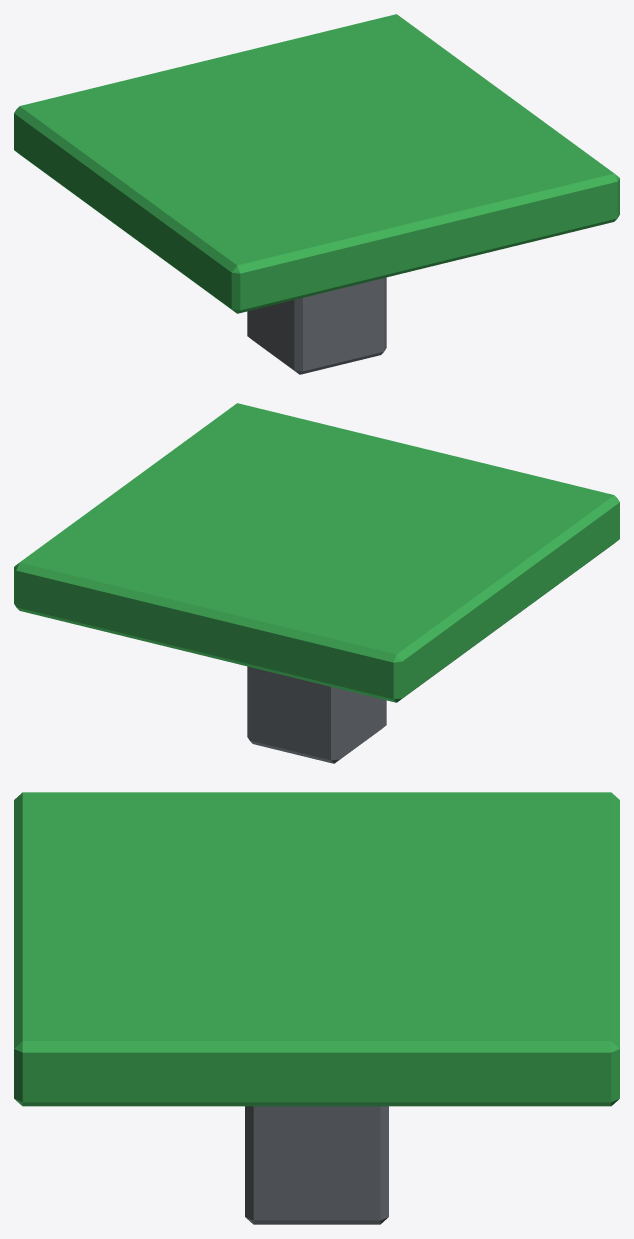
The model's file is lift_platform.glb.
3 views of the same model, one above another, from view 1: azimuth 30°, elevation 25°; view 2: azimuth 150°, elevation 25°; view 3: azimuth 270°, elevation 25° (orthographic). The views are drawn at different scales.
Parts seen in each view (by area): view 1: lift_platform; view 2: lift_platform; view 3: lift_platform.
Part boxes in pixels (x1=…): lift_platform: x1=14, y1=14, x2=619, y2=374; lift_platform: x1=14, y1=403, x2=619, y2=763; lift_platform: x1=14, y1=792, x2=619, y2=1224.
Bounding box in the file's own units: 0.42 × 0.215 × 0.42.
